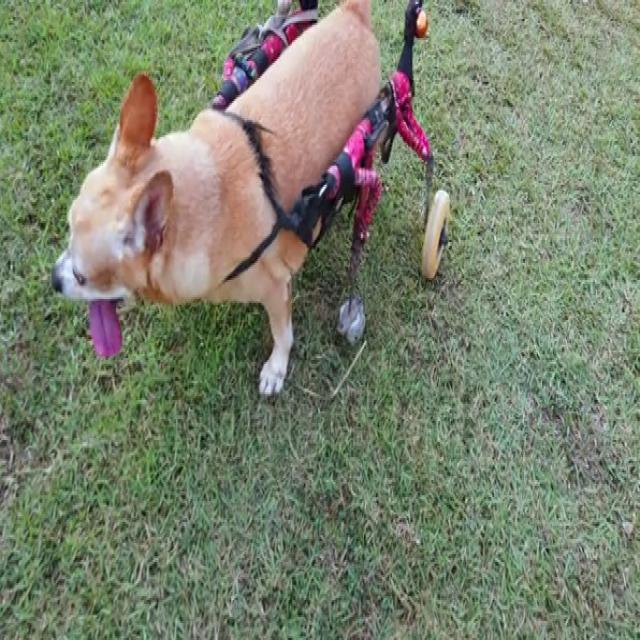injured-animals: (47, 2, 453, 402)
